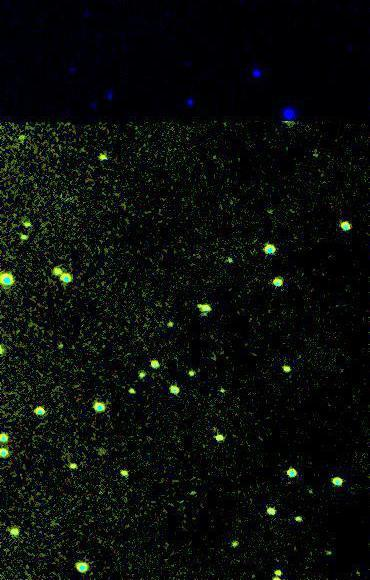star: (43, 259, 73, 289)
